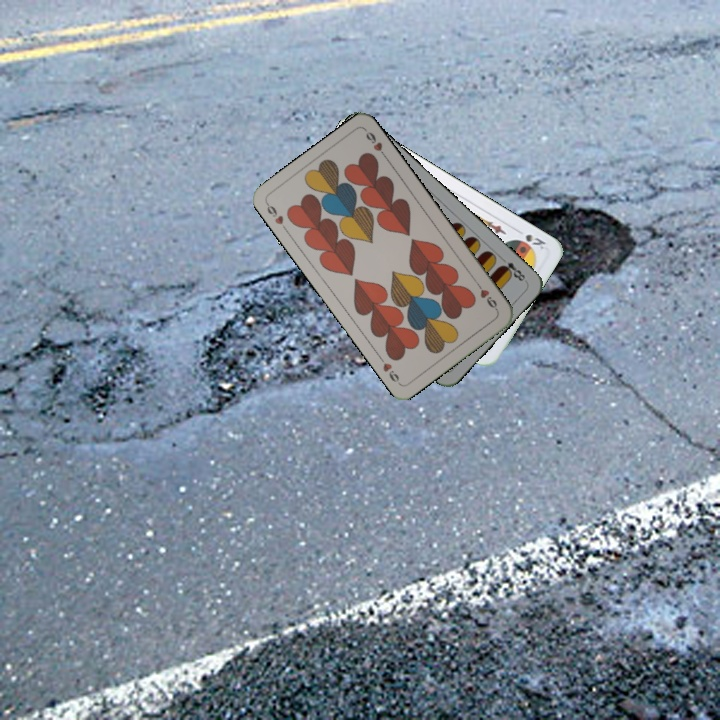E8: (496, 253, 528, 284)
H9: (472, 278, 501, 314), (262, 199, 290, 234)
SK: (521, 230, 549, 252)
